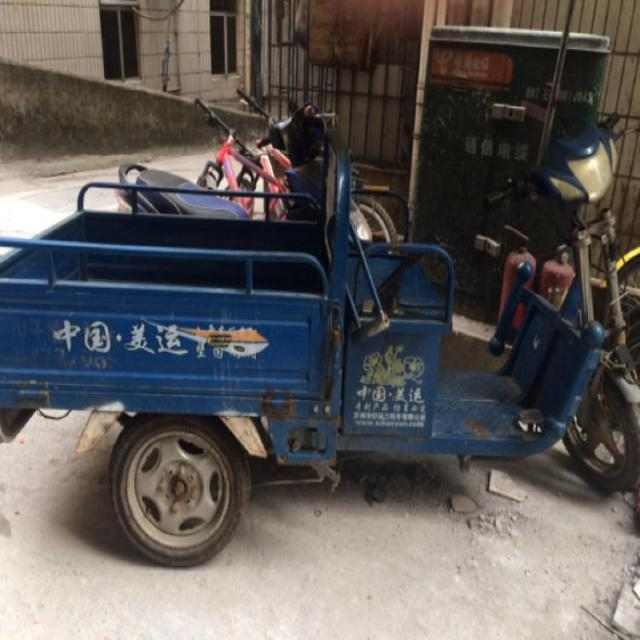bicycle: (187, 94, 292, 218)
motorbike: (111, 97, 335, 214)
tricycle: (0, 105, 639, 567)
